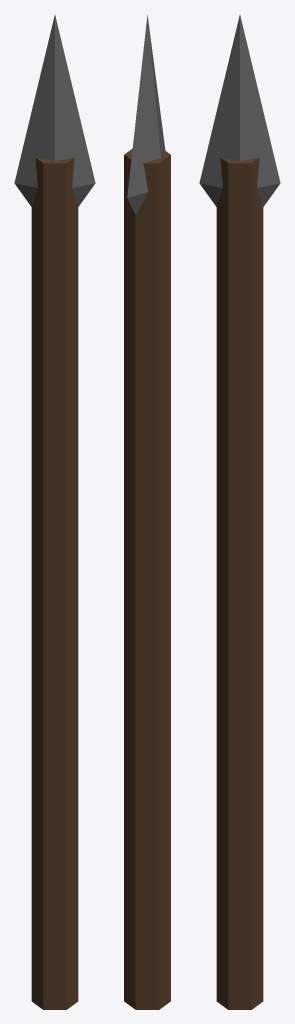
The model's file is spear2.glb.
The picture shows the model from 3 angles, left to right: view 1: azimuth 90°, elevation 25°; view 2: azimuth 150°, elevation 25°; view 3: azimuth 270°, elevation 25°; orthographic projection.
Parts seen in each view (by area): view 1: Spear; view 2: Spear; view 3: Spear.
Part boxes in pixels (bbox=[...]): Spear: bbox=[14, 15, 95, 1009]; Spear: bbox=[124, 14, 170, 1009]; Spear: bbox=[199, 15, 280, 1009].
Bounding box in the file's own units: 0.0866 × 2.33 × 0.1738.
